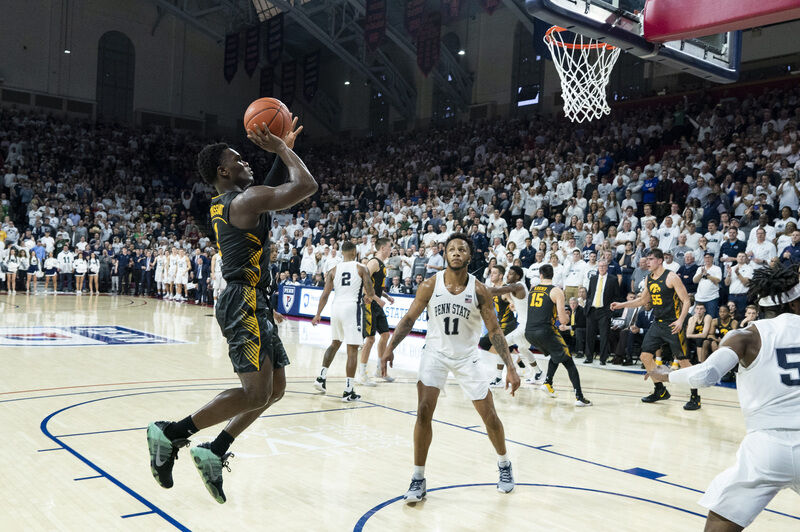ball: (240, 92, 298, 149)
basket: (528, 15, 631, 130)
defense: (394, 230, 521, 514)
shoot: (119, 89, 324, 521)
